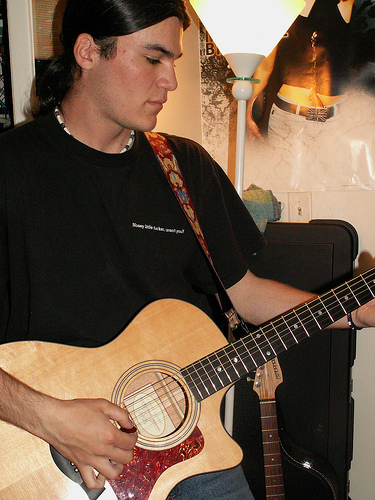guitar: (1, 274, 373, 500)
